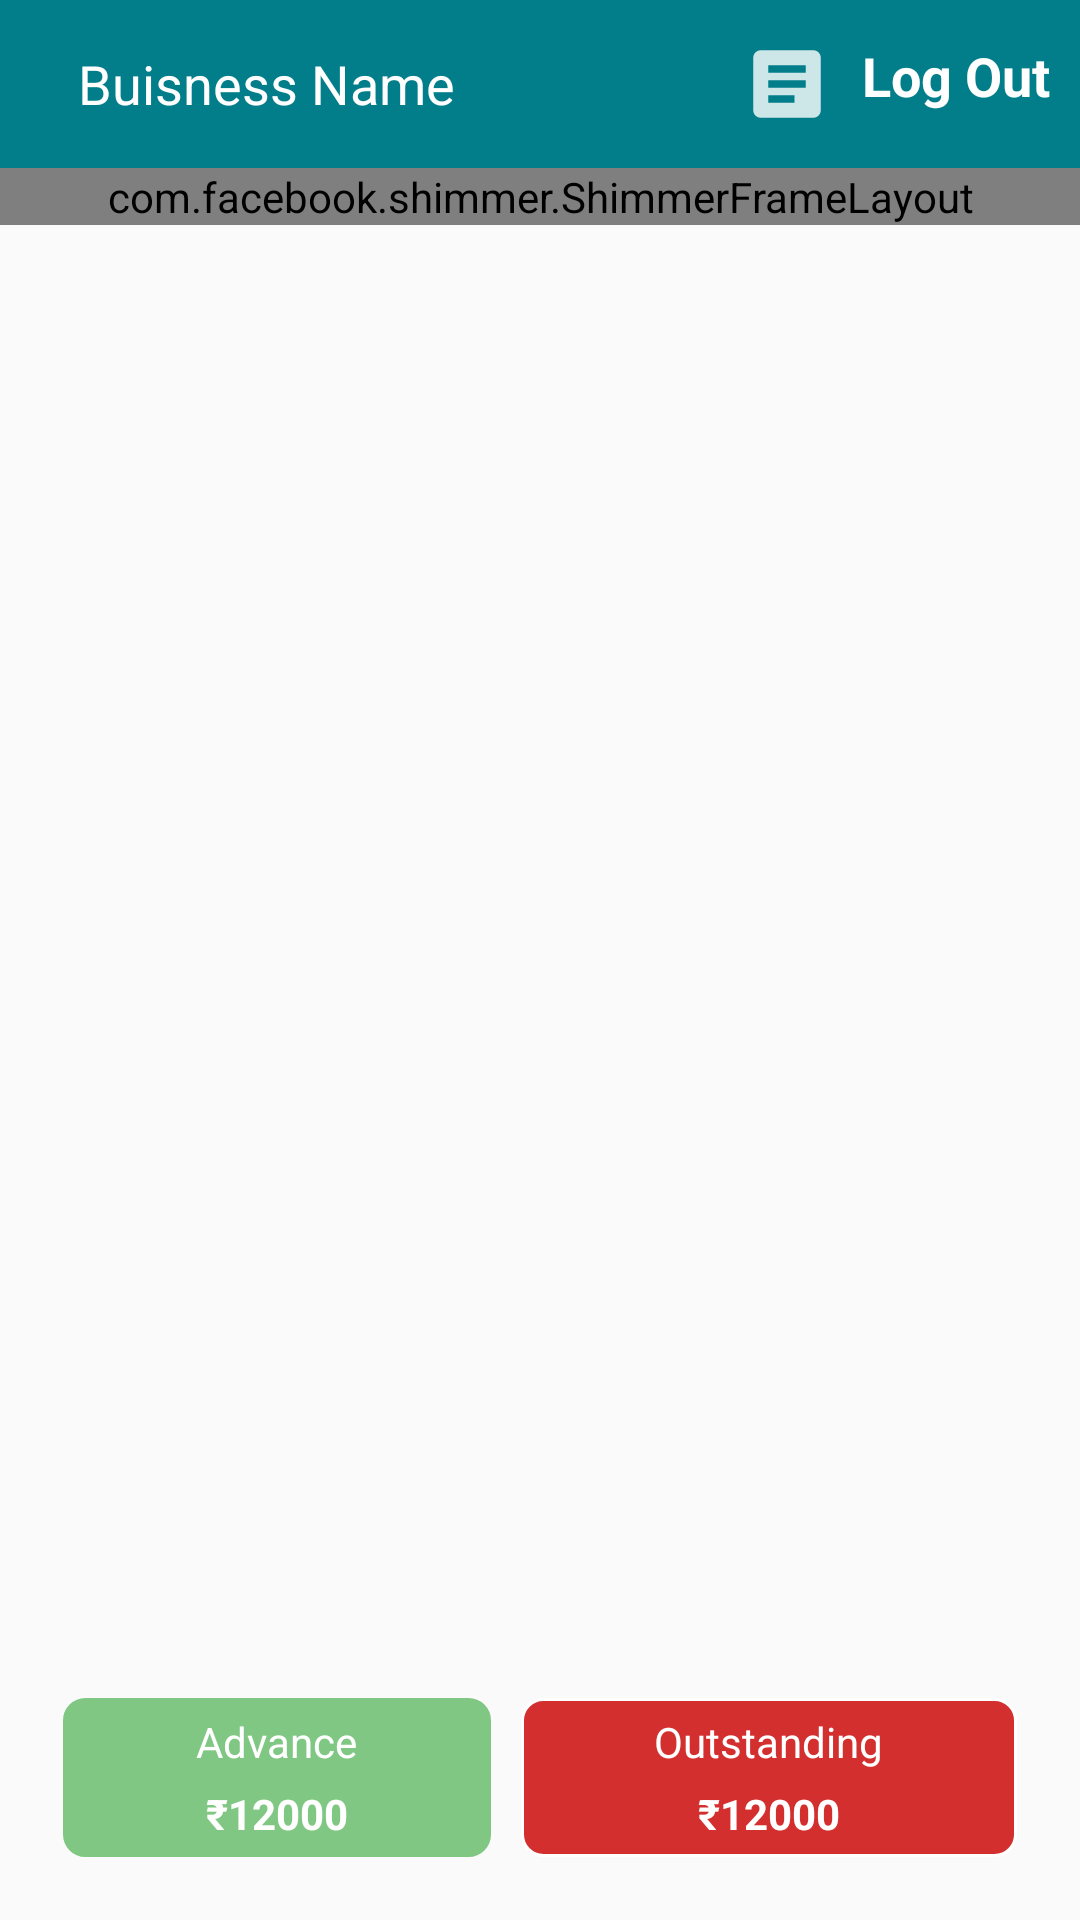

Named icons in this screenshot (1080×1920) and their bounding boxes, (x1, y1, x2, y2):
article: (753, 50, 821, 118)
